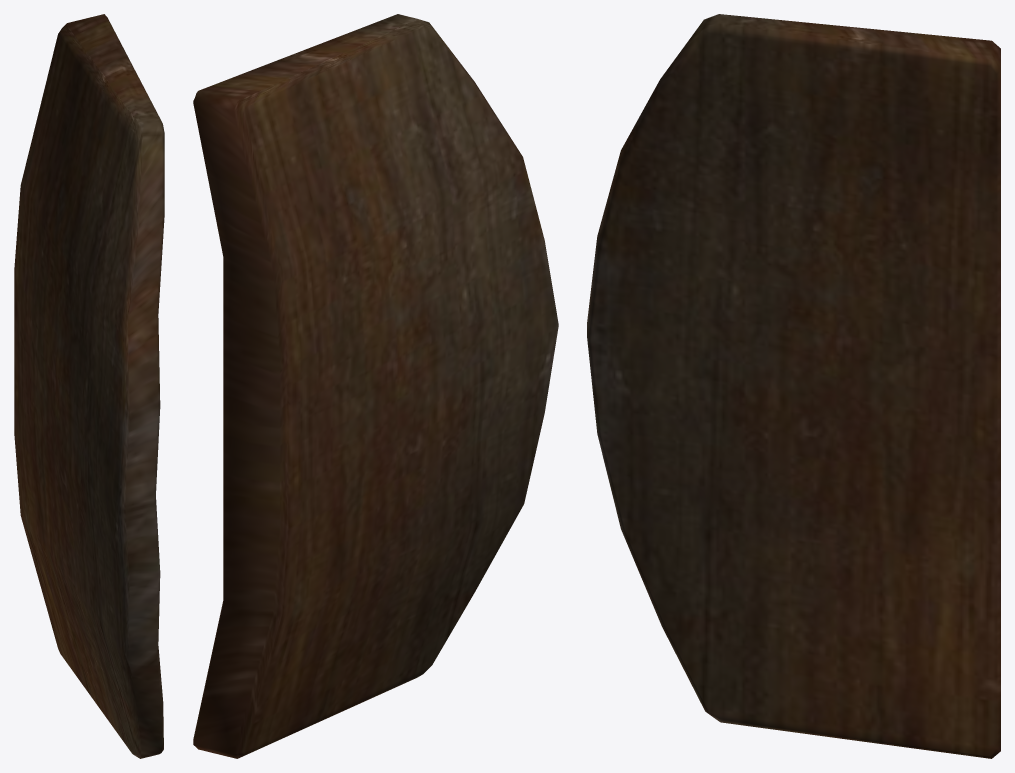
Rendered from furniture_plainchair_shardback.glb.
The picture shows the model from 3 angles, left to right: view 1: azimuth 30°, elevation 25°; view 2: azimuth 150°, elevation 25°; view 3: azimuth 270°, elevation 25°; orthographic projection. The views are drawn at different scales.
Size of the model in its own units: 5.76 by 20.61 by 11.07.
1 material, 1 textured.
